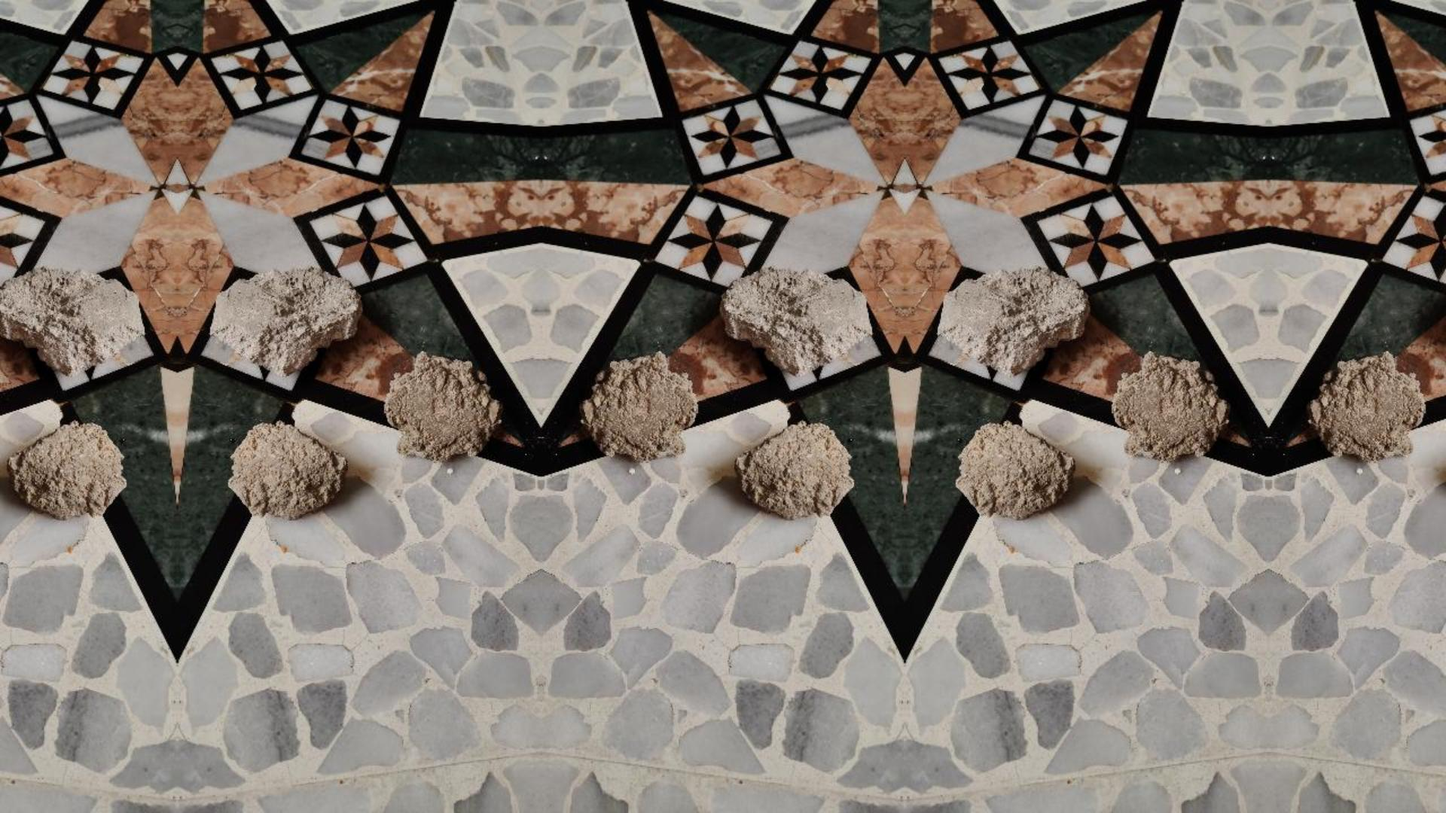rock: (934, 266, 1088, 374), (211, 266, 360, 375), (722, 268, 871, 374), (0, 268, 143, 374), (1308, 351, 1425, 460), (1112, 351, 1227, 460), (581, 352, 697, 460), (385, 352, 500, 460), (227, 421, 346, 518), (735, 421, 853, 518), (9, 421, 125, 518), (956, 422, 1072, 518)
